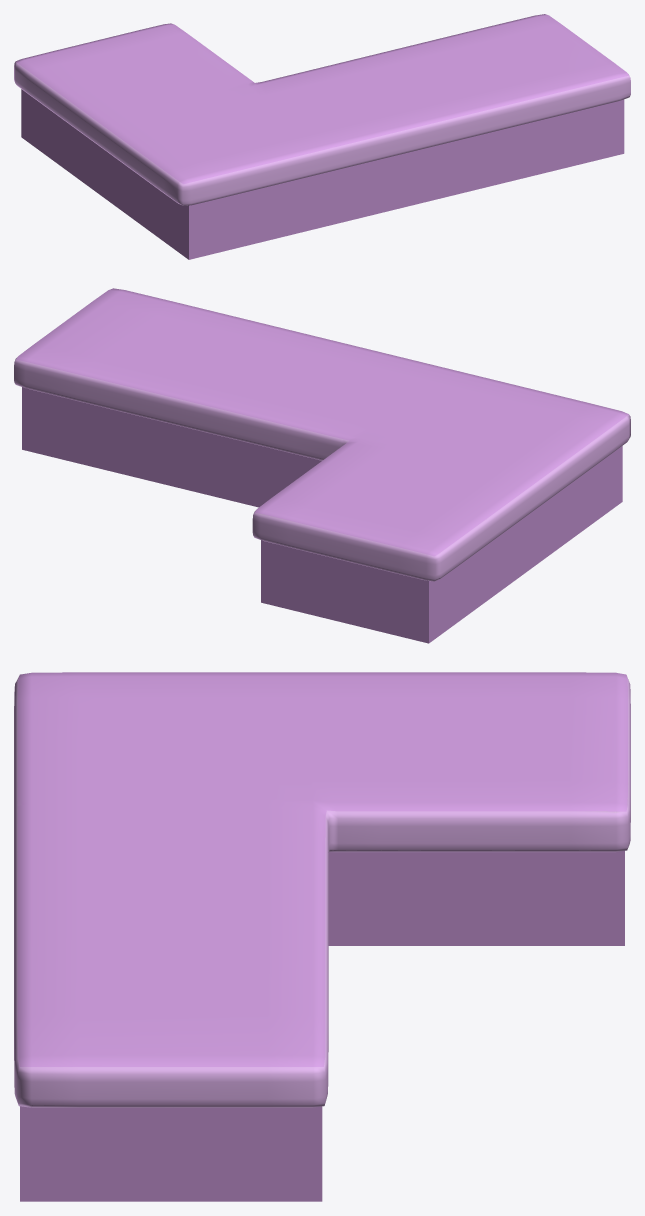
3 views of the same model, one above another, from view 1: azimuth 30°, elevation 25°; view 2: azimuth 150°, elevation 25°; view 3: azimuth 270°, elevation 25° (orthographic). The views are drawn at different scales.
Visible parts, largest first — view 1: FT3_Cover.001, FT3_Base.001; view 2: FT3_Cover.001, FT3_Base.001; view 3: FT3_Cover.001, FT3_Base.001.
Part boxes in pixels (bbox=[...]): FT3_Cover.001: bbox=[14, 14, 630, 205]; FT3_Base.001: bbox=[21, 89, 624, 259]; FT3_Cover.001: bbox=[14, 288, 630, 581]; FT3_Base.001: bbox=[22, 387, 622, 643]; FT3_Cover.001: bbox=[14, 672, 630, 1107]; FT3_Base.001: bbox=[20, 851, 624, 1201].
Size of the model in its own units: 3.12 by 0.52 by 2.04.
